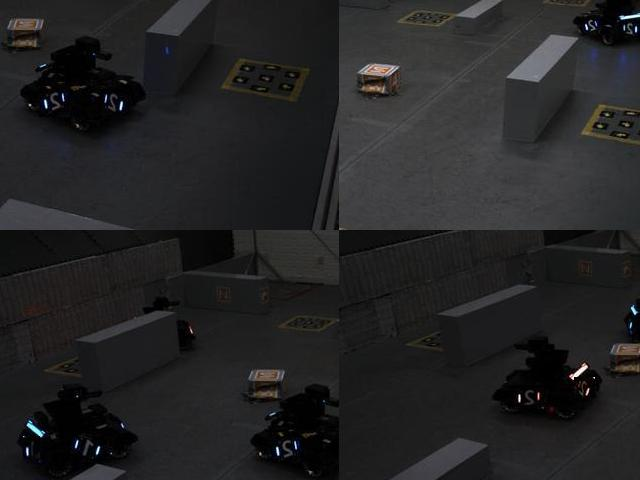armor: (39, 87, 71, 119), (273, 433, 302, 465), (72, 435, 109, 460), (515, 385, 547, 410), (103, 90, 131, 117), (574, 377, 596, 399), (23, 436, 41, 460), (583, 15, 602, 36), (621, 21, 639, 40)
